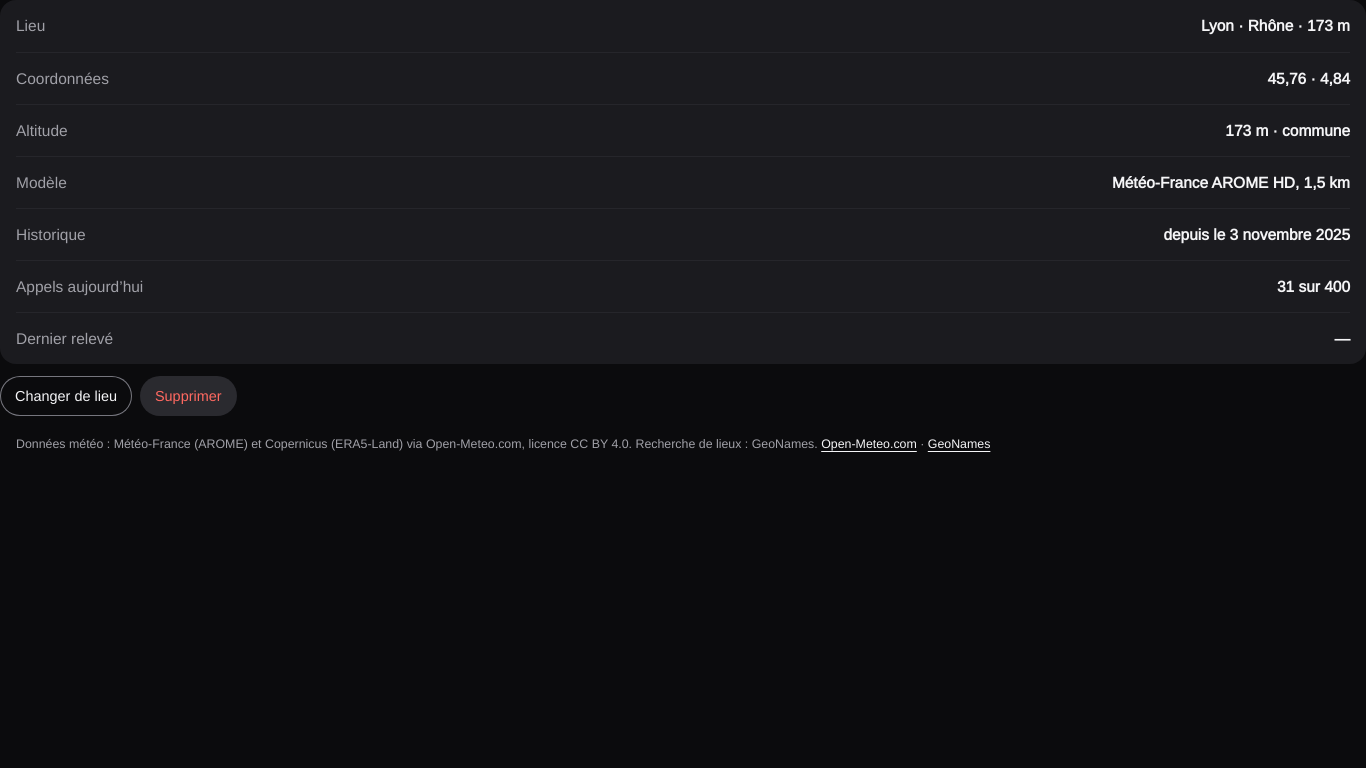
Test: WeatherPanel › « Supprimer » asks in a sheet, Annuler focused; confirming removes once and shows the off state
Step 1. Click the button "Supprimer" → [188, 396], box [140,376,236,416]
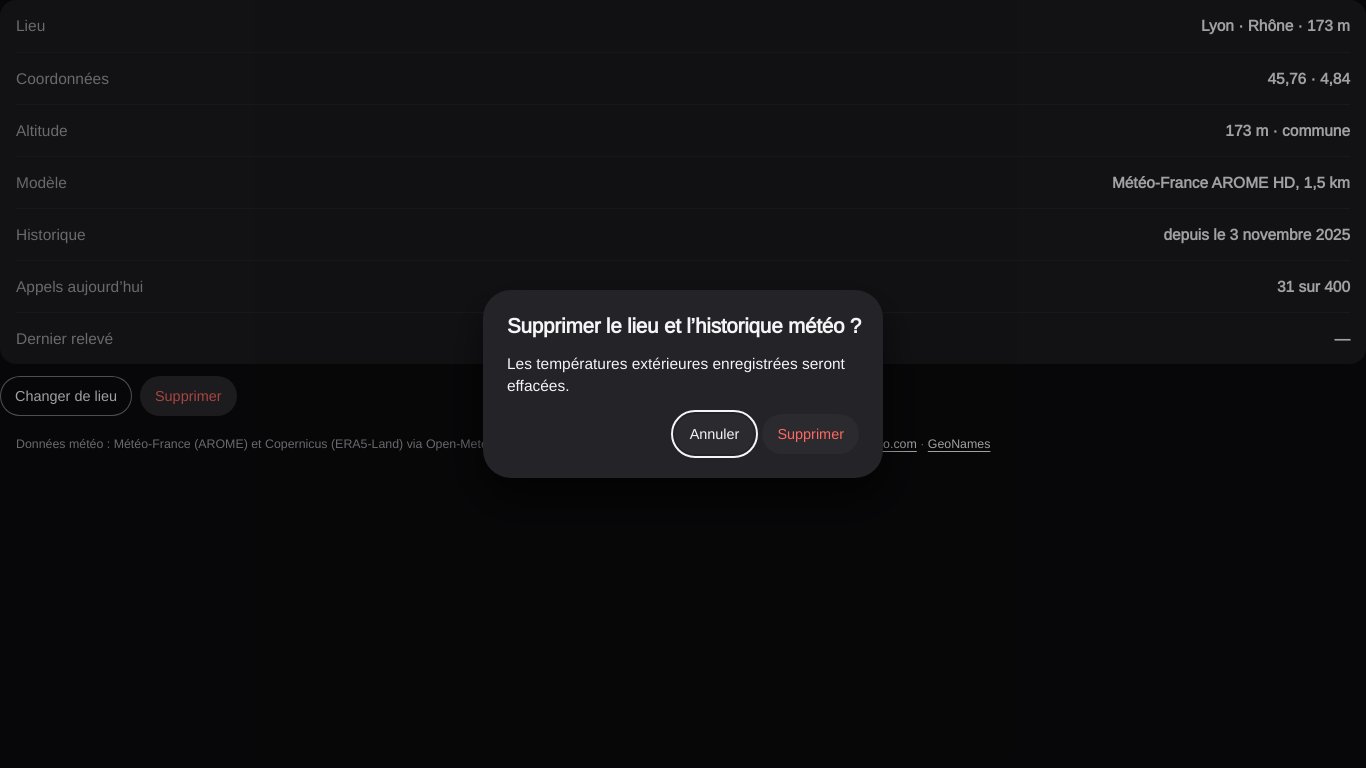
Now the text "Les températures extérieures enregistrées seront effacées." is shown, box [507,353,859,396]
Now the button "Annuler" is shown, box [675,414,754,454]
Step 2. Click the button "Supprimer" → [811, 434], box [762,414,859,454]
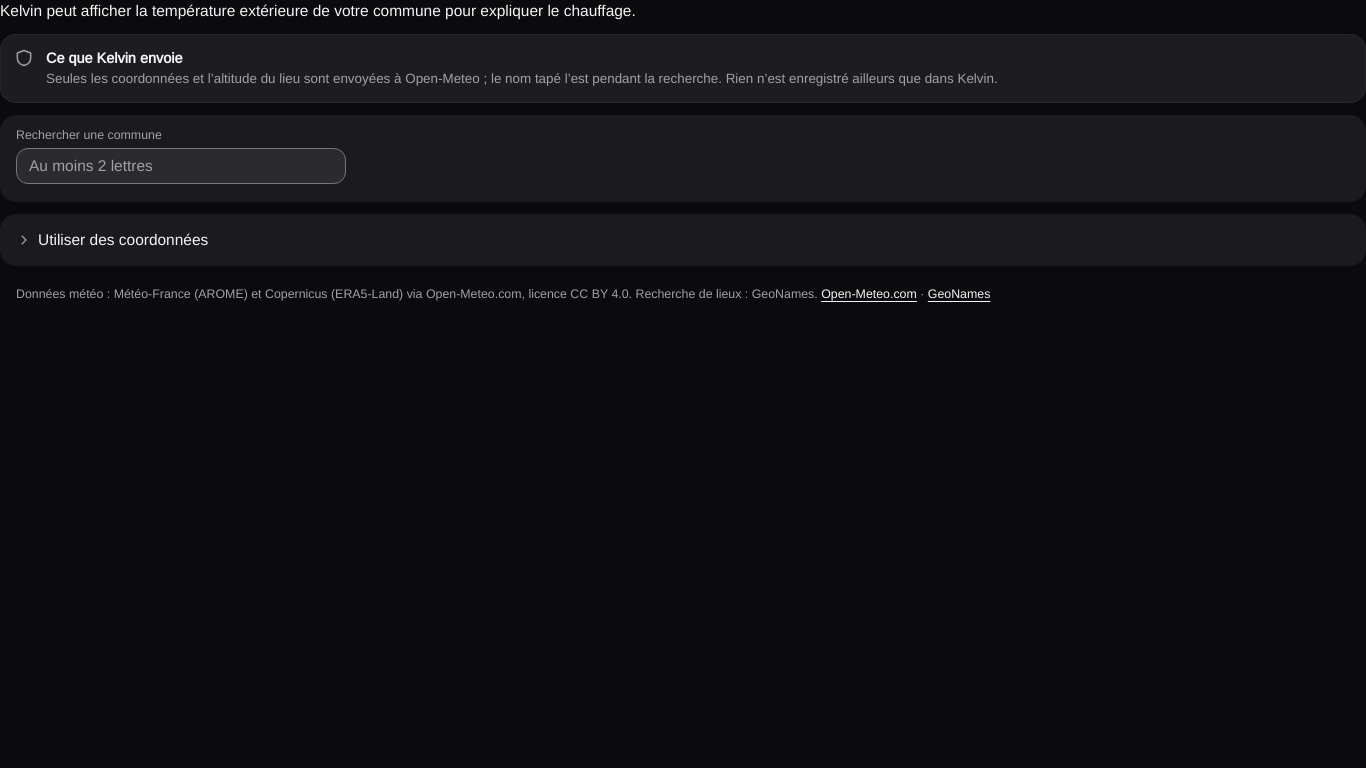
Now the dropdown labelled "Rechercher une commune" is shown, box [16,148,346,184]
